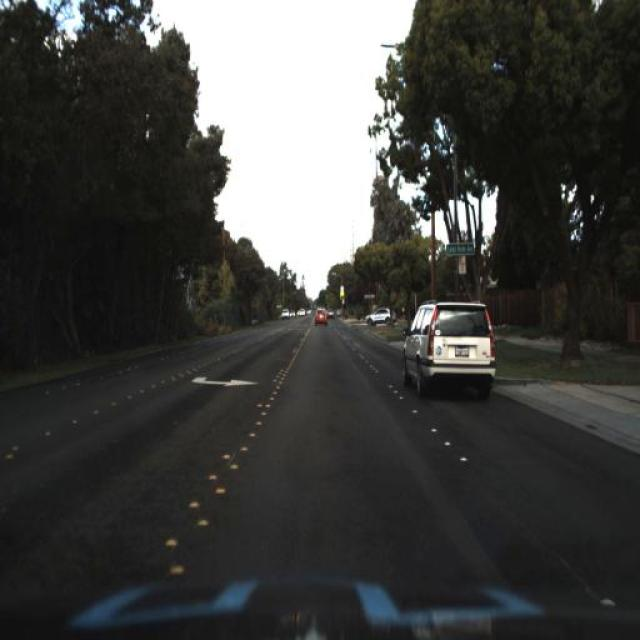car: (402, 297, 507, 405), (364, 304, 396, 328), (312, 300, 329, 325)
